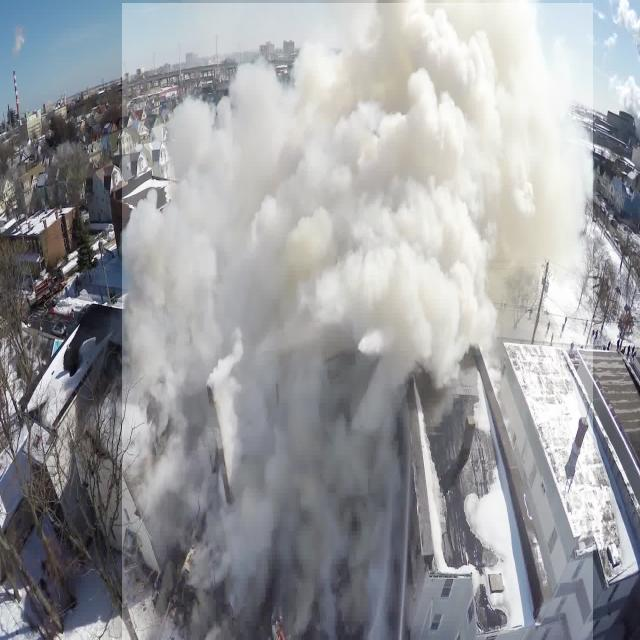Smoke: (122, 3, 593, 640)
